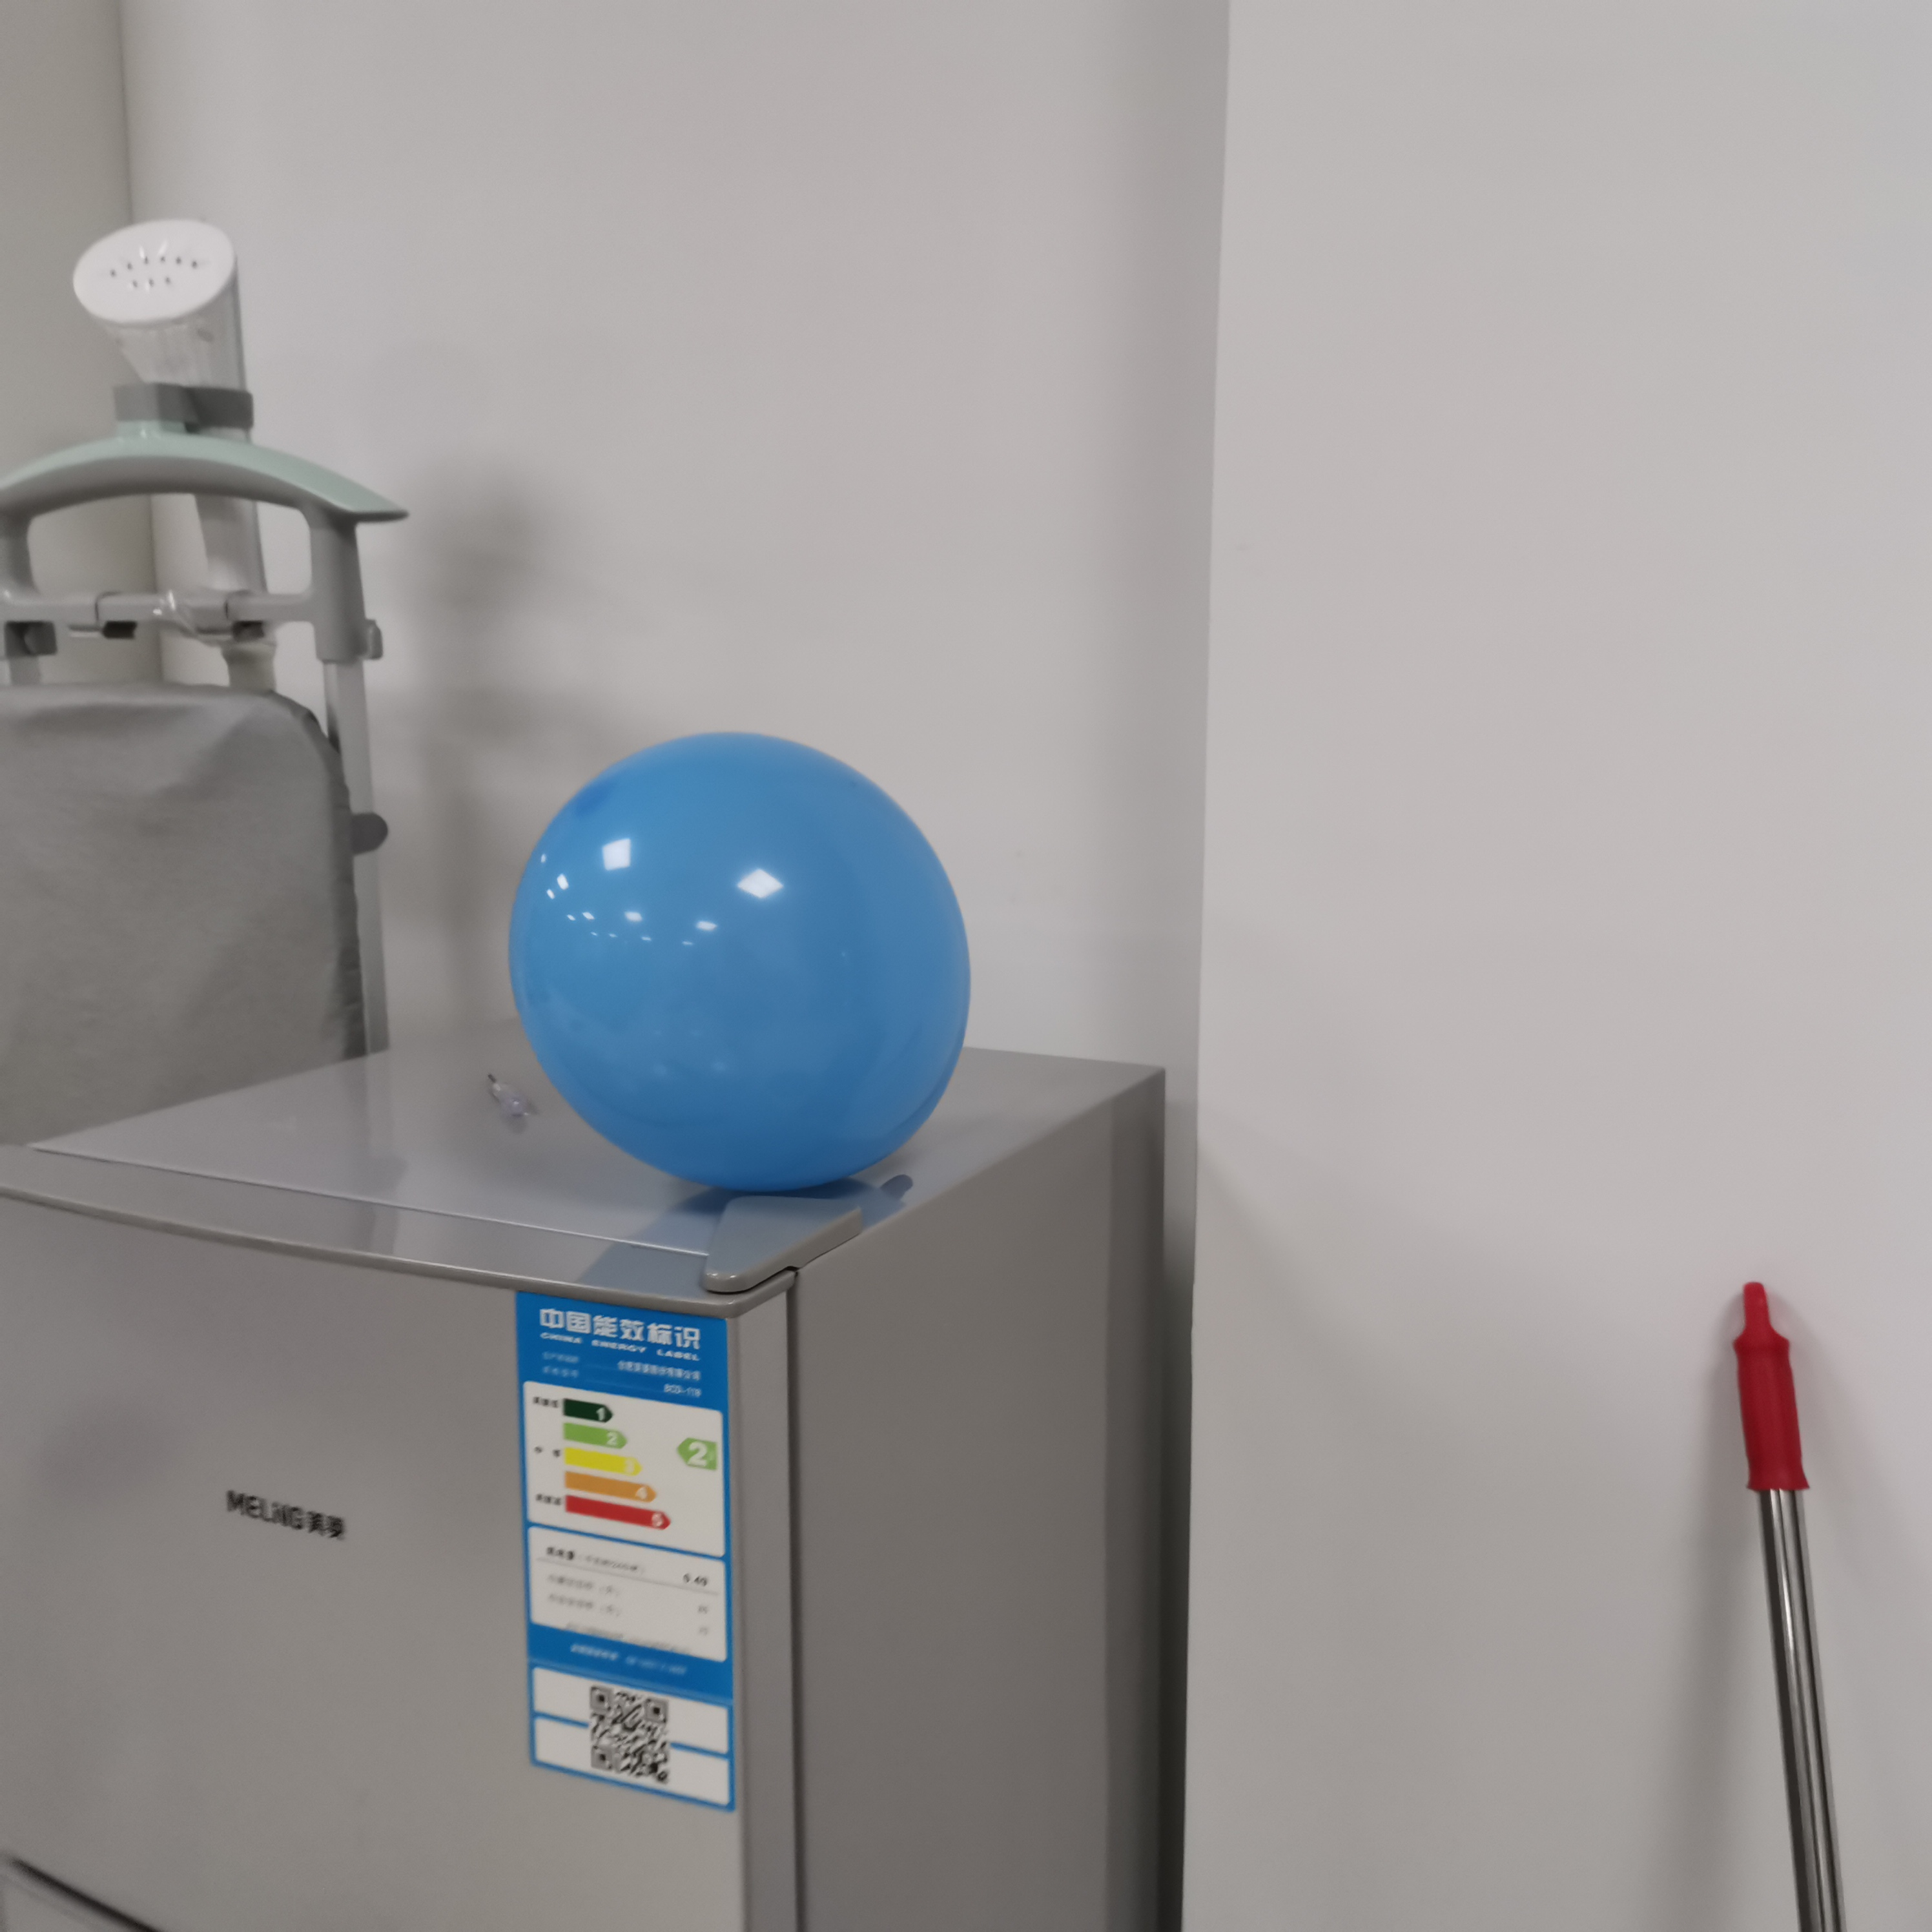balloon: (506, 732, 971, 1198)
